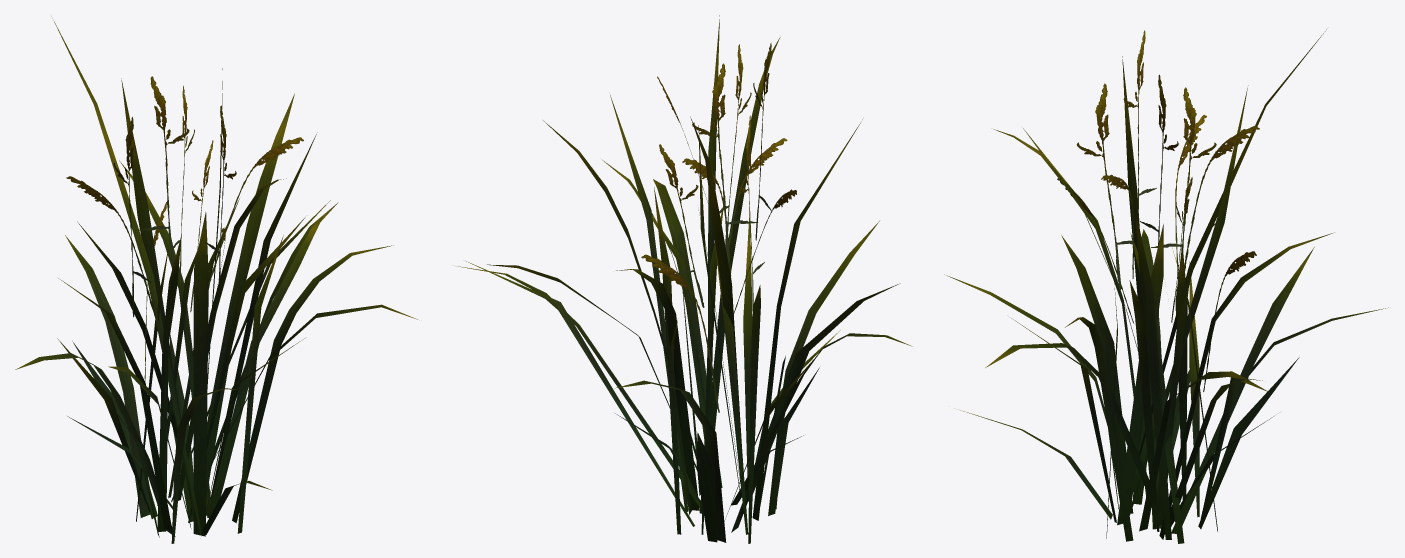
The model's file is grass3.fbx.
3 views of the same model, side by side, from view 1: azimuth 30°, elevation 25°; view 2: azimuth 150°, elevation 25°; view 3: azimuth 270°, elevation 25° (orthographic). The views are drawn at different scales.
Visible parts, largest first — view 1: SM_020_Grass_03a; view 2: SM_020_Grass_03a; view 3: SM_020_Grass_03a.
Part boxes in pixels (x1,y1,x2,y2): SM_020_Grass_03a: (15, 16, 417, 543); SM_020_Grass_03a: (457, 15, 912, 543); SM_020_Grass_03a: (944, 29, 1388, 543).
Size of the model in its own units: 83.41 by 99.25 by 81.18.
